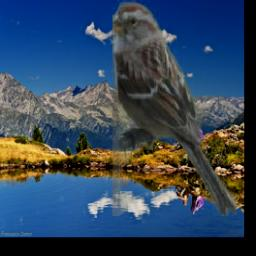Sparrow: (112, 1, 237, 217)
